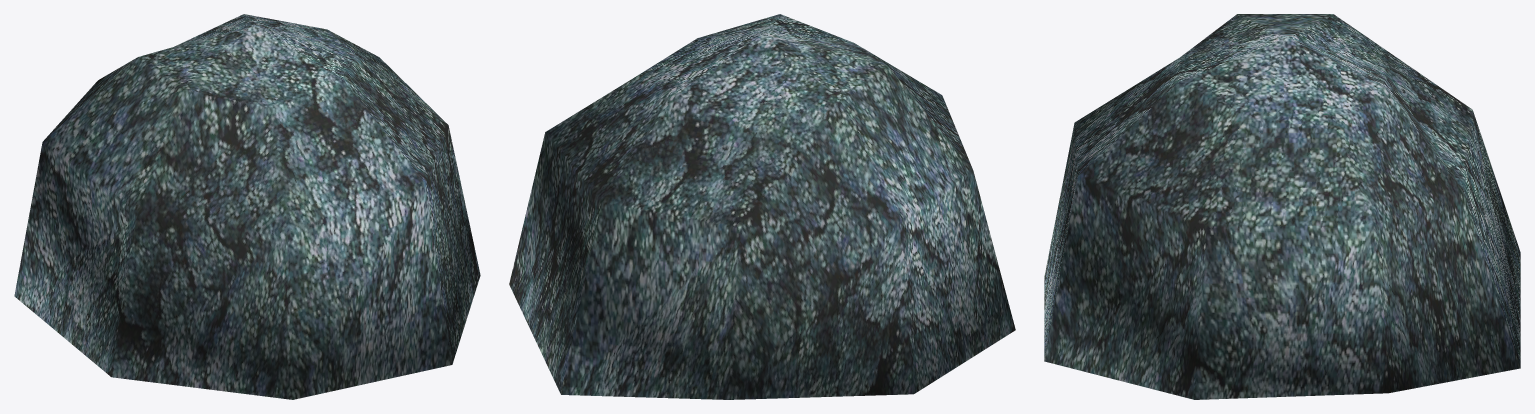
The model's file is rock_crystl_watrbush_sm_l1.fbx.
3 views of the same model, side by side, from view 1: azimuth 30°, elevation 25°; view 2: azimuth 150°, elevation 25°; view 3: azimuth 270°, elevation 25° (orthographic). The views are drawn at different scales.
Parts seen in each view (by area): view 1: mesh_node; view 2: mesh_node; view 3: mesh_node.
Part boxes in pixels (left/top/right/bottom): mesh_node: left=14, top=14, right=480, bottom=399; mesh_node: left=509, top=14, right=1015, bottom=399; mesh_node: left=1044, top=14, right=1520, bottom=399.
Size of the model in its own units: 1.89 by 1.44 by 1.95.
